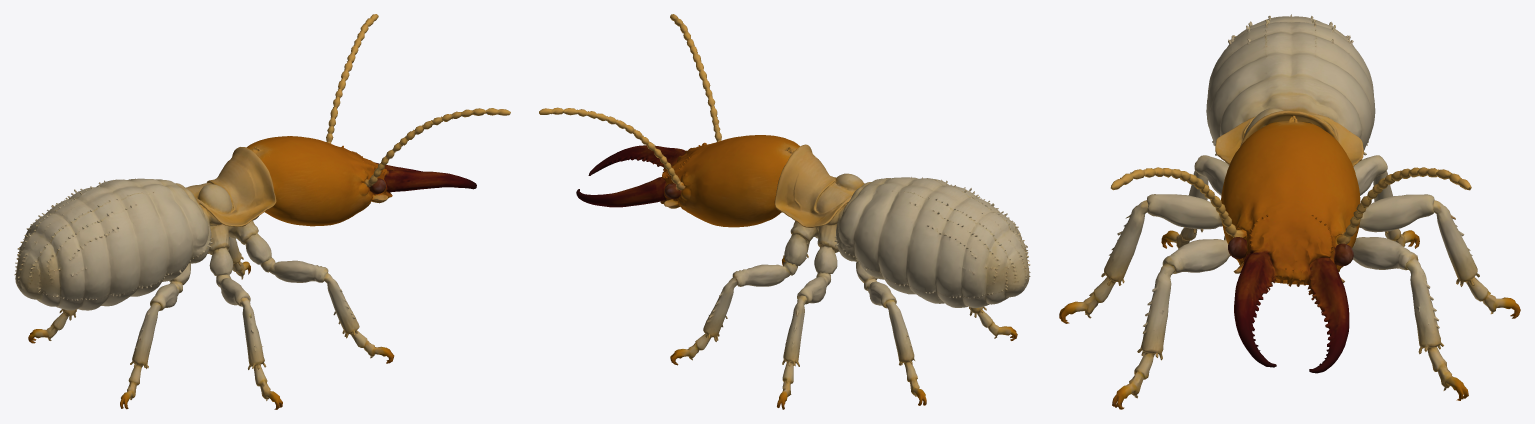
File: termite.glb
3 renders of one model, left to right at view 1: azimuth 30°, elevation 25°; view 2: azimuth 150°, elevation 25°; view 3: azimuth 270°, elevation 25°, orthographic. The views are drawn at different scales.
Parts seen in each view (by area): view 1: tripo_node_43d5d7df-49d5-4850-b315-d8b62172036b; view 2: tripo_node_43d5d7df-49d5-4850-b315-d8b62172036b; view 3: tripo_node_43d5d7df-49d5-4850-b315-d8b62172036b.
Boxes of the visible parts, x1,y1,x2,y2 form: tripo_node_43d5d7df-49d5-4850-b315-d8b62172036b: [14, 14, 510, 409]; tripo_node_43d5d7df-49d5-4850-b315-d8b62172036b: [539, 14, 1030, 409]; tripo_node_43d5d7df-49d5-4850-b315-d8b62172036b: [1059, 14, 1520, 409].
Size of the model in its own units: 0.9852 by 0.4765 by 0.6522.
Materials: 1 (1 with a texture image).
